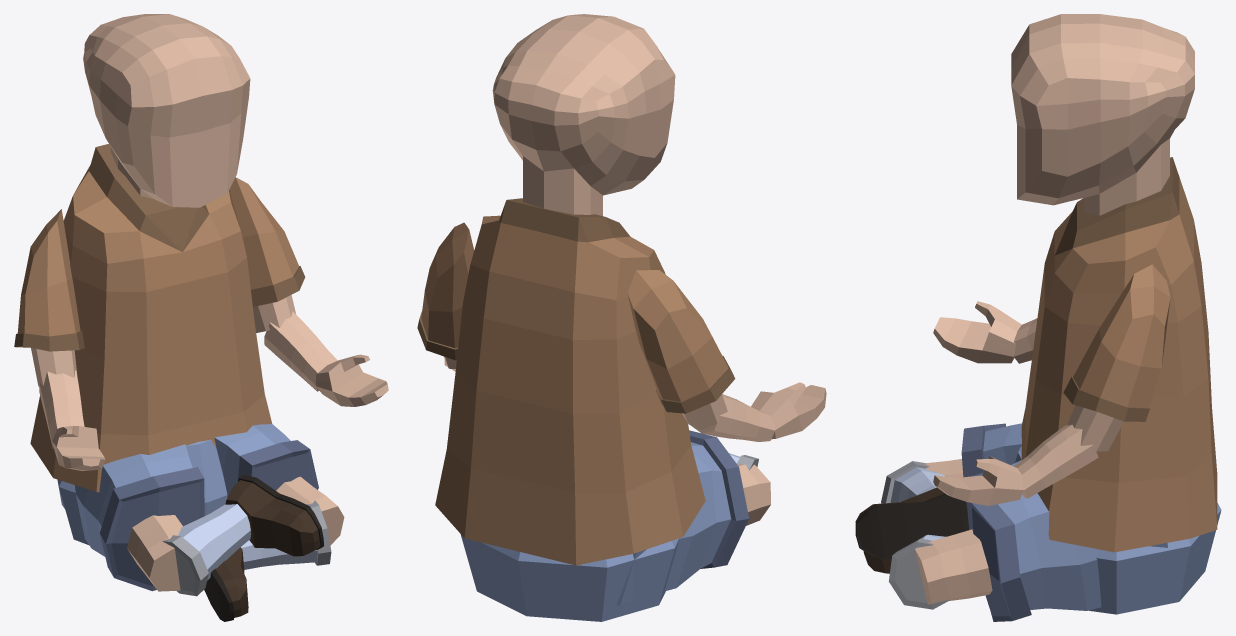
File: SCN_Child_Export.glb
3 views of the same model, side by side, from view 1: azimuth 30°, elevation 25°; view 2: azimuth 150°, elevation 25°; view 3: azimuth 270°, elevation 25° (orthographic). The views are drawn at different scales.
Visible parts, largest first — view 1: MSH_Child_Lotus; view 2: MSH_Child_Lotus; view 3: MSH_Child_Lotus.
Part boxes in pixels (x1,y1,x2,y2): MSH_Child_Lotus: (14, 14, 388, 621); MSH_Child_Lotus: (417, 14, 826, 621); MSH_Child_Lotus: (855, 14, 1221, 621).
Bounding box in the file's own units: 0.5193 × 0.8102 × 0.4747.
Materials: 1 (1 with a texture image).
